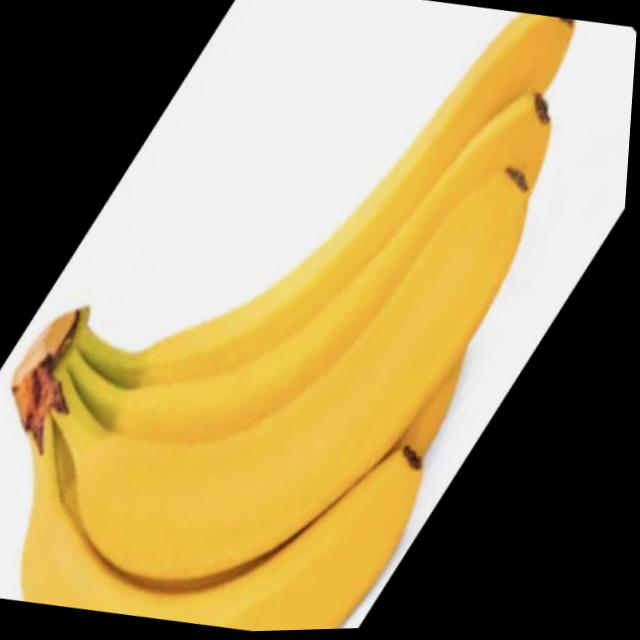Banana: (0, 0, 580, 640)
